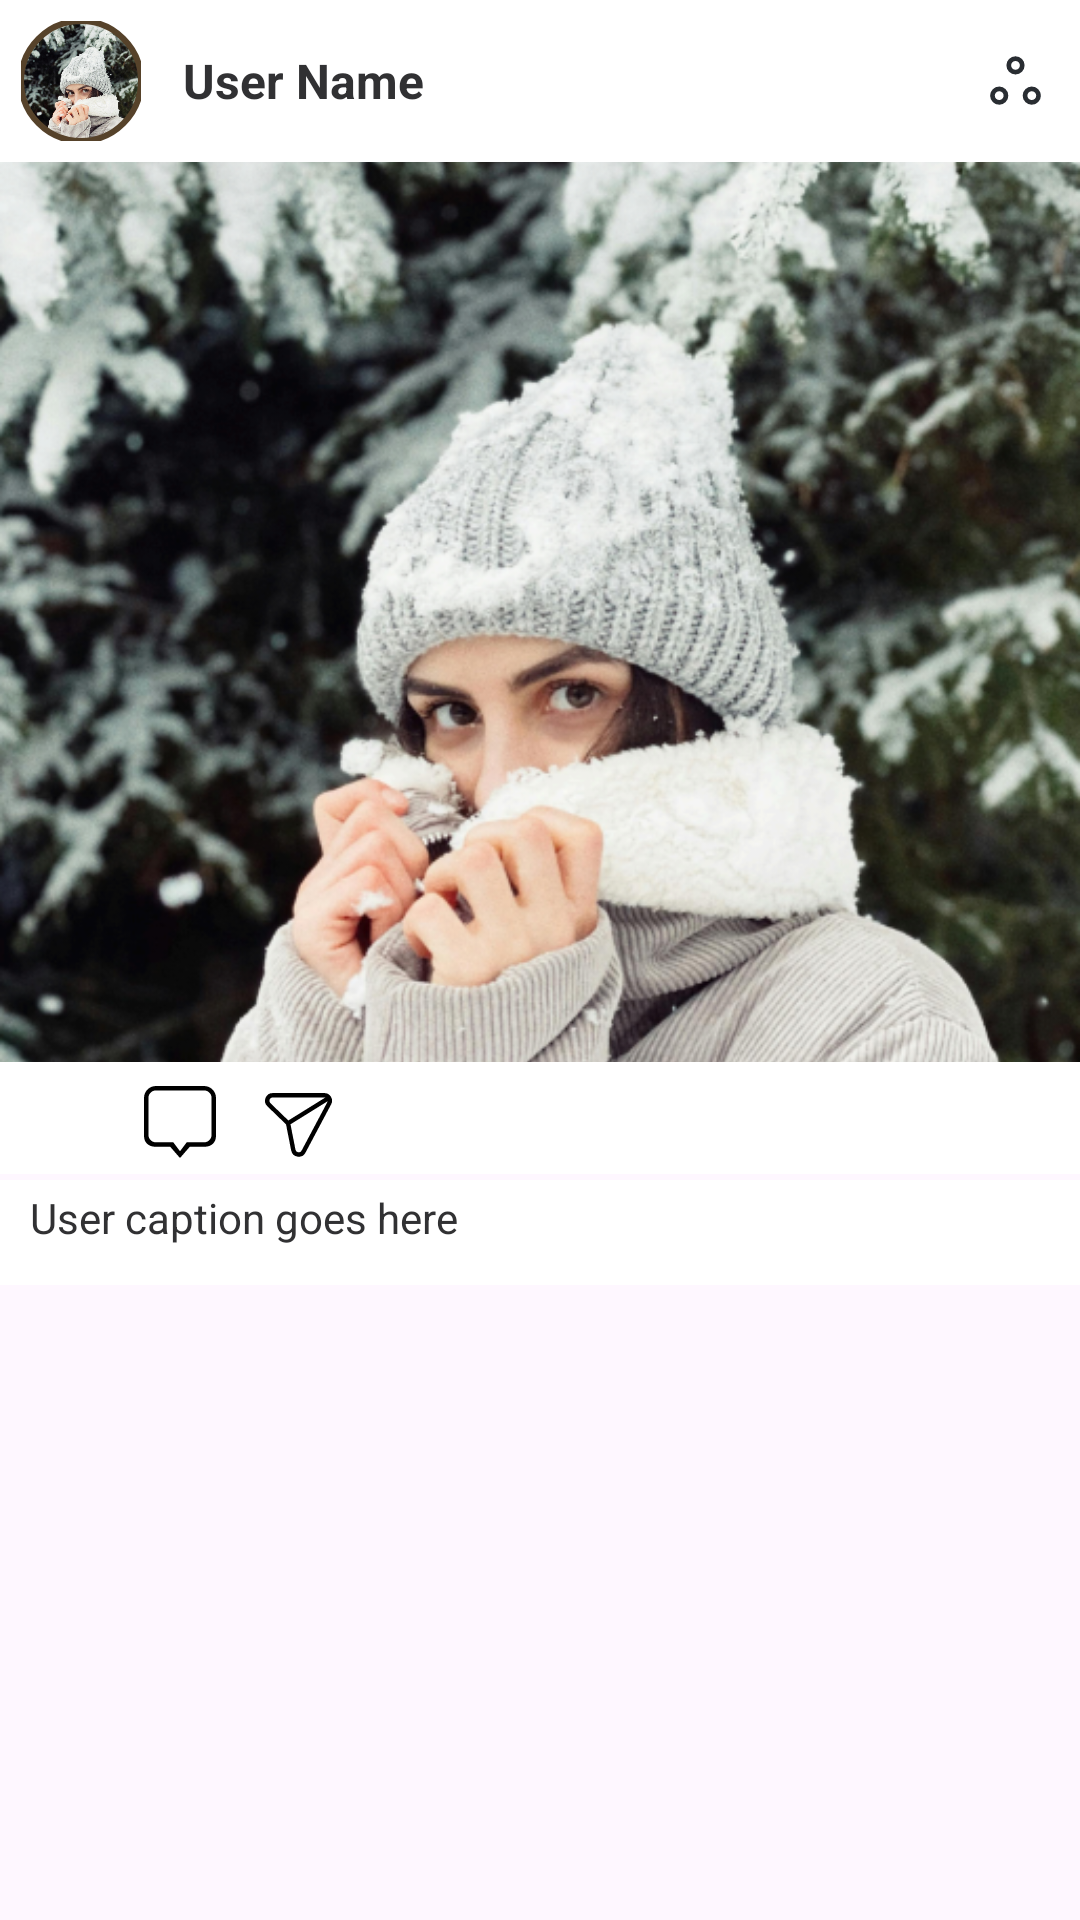

Icons on this 1080x1920 Android screen, each with its box as (x1, y1, x2, y2):
comment: (144, 1086, 216, 1158)
share: (265, 1093, 332, 1157)
threedots: (990, 56, 1041, 105)
